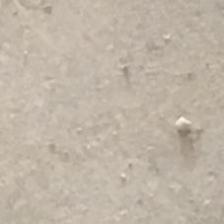Non_Crack: (19, 33, 196, 159)
